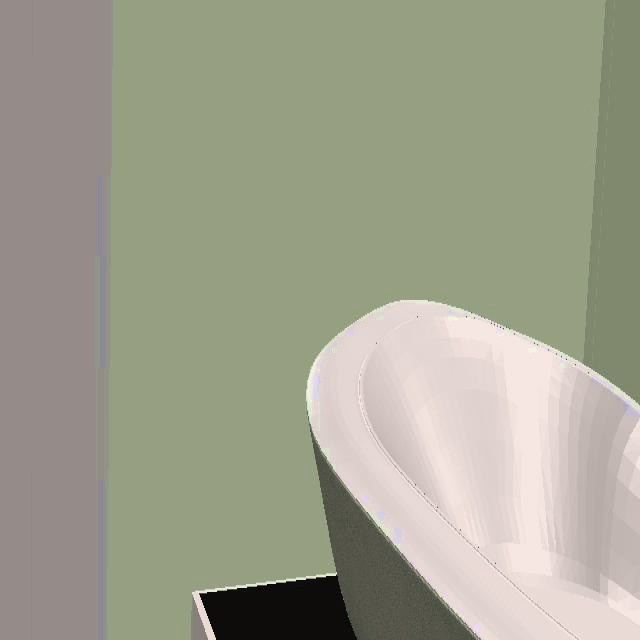bathtube: (307, 301, 640, 640)
